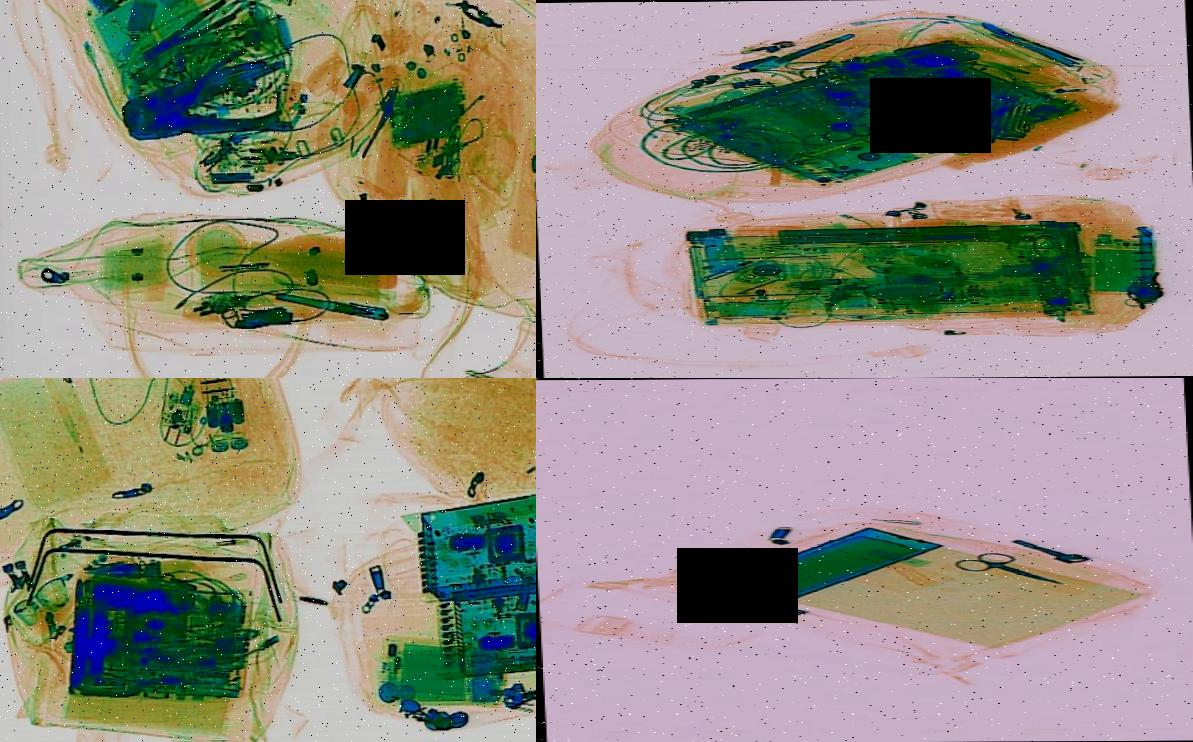Pliers: (114, 52, 294, 156), (135, 40, 283, 151), (134, 0, 236, 65), (932, 101, 1018, 148), (924, 92, 985, 146)
Scissors: (946, 544, 1073, 595)
